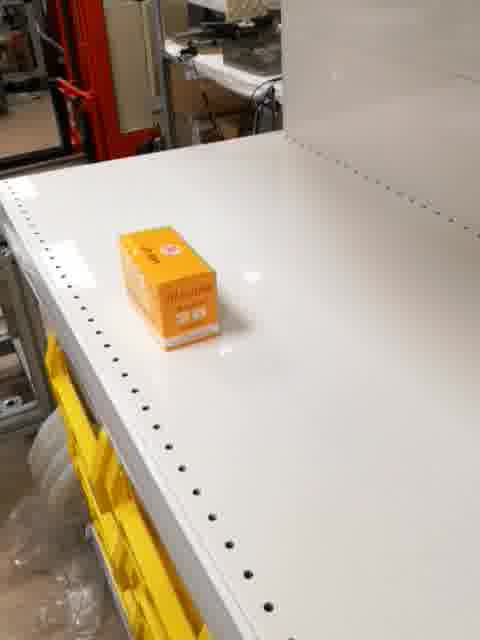jasminetea: (115, 222, 222, 354)
